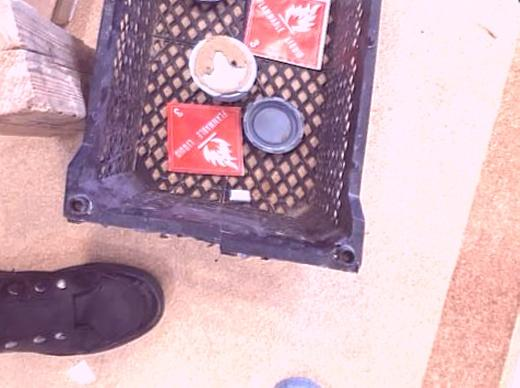flammable: (240, 1, 336, 69), (165, 103, 249, 176)
